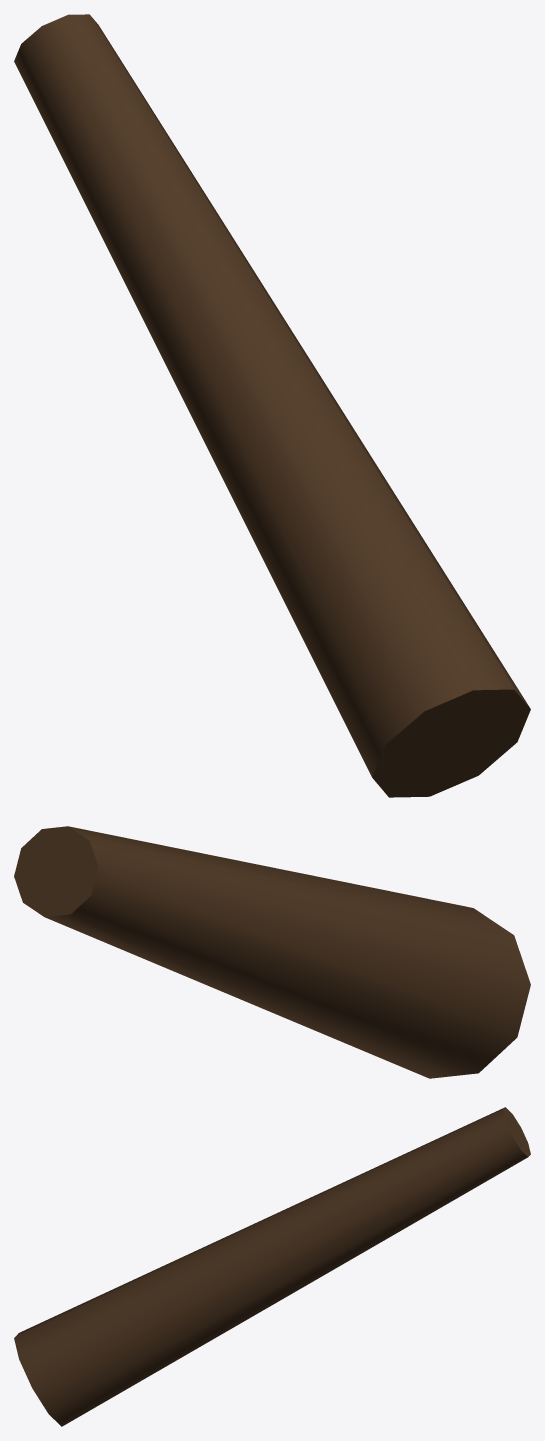
File: root-south.glb
The picture shows the model from 3 angles, top to bottom: view 1: azimuth 30°, elevation 25°; view 2: azimuth 150°, elevation 25°; view 3: azimuth 270°, elevation 25°; orthographic projection. The views are drawn at different scales.
Visible parts, largest first — view 1: Root south; view 2: Root south; view 3: Root south.
Part boxes in pixels (x1,y1,x2,y2): Root south: (14,14,530,797); Root south: (14,826,530,1078); Root south: (14,1107,530,1426).
Size of the model in its own units: 6.73 by 22.92 by 34.45.
